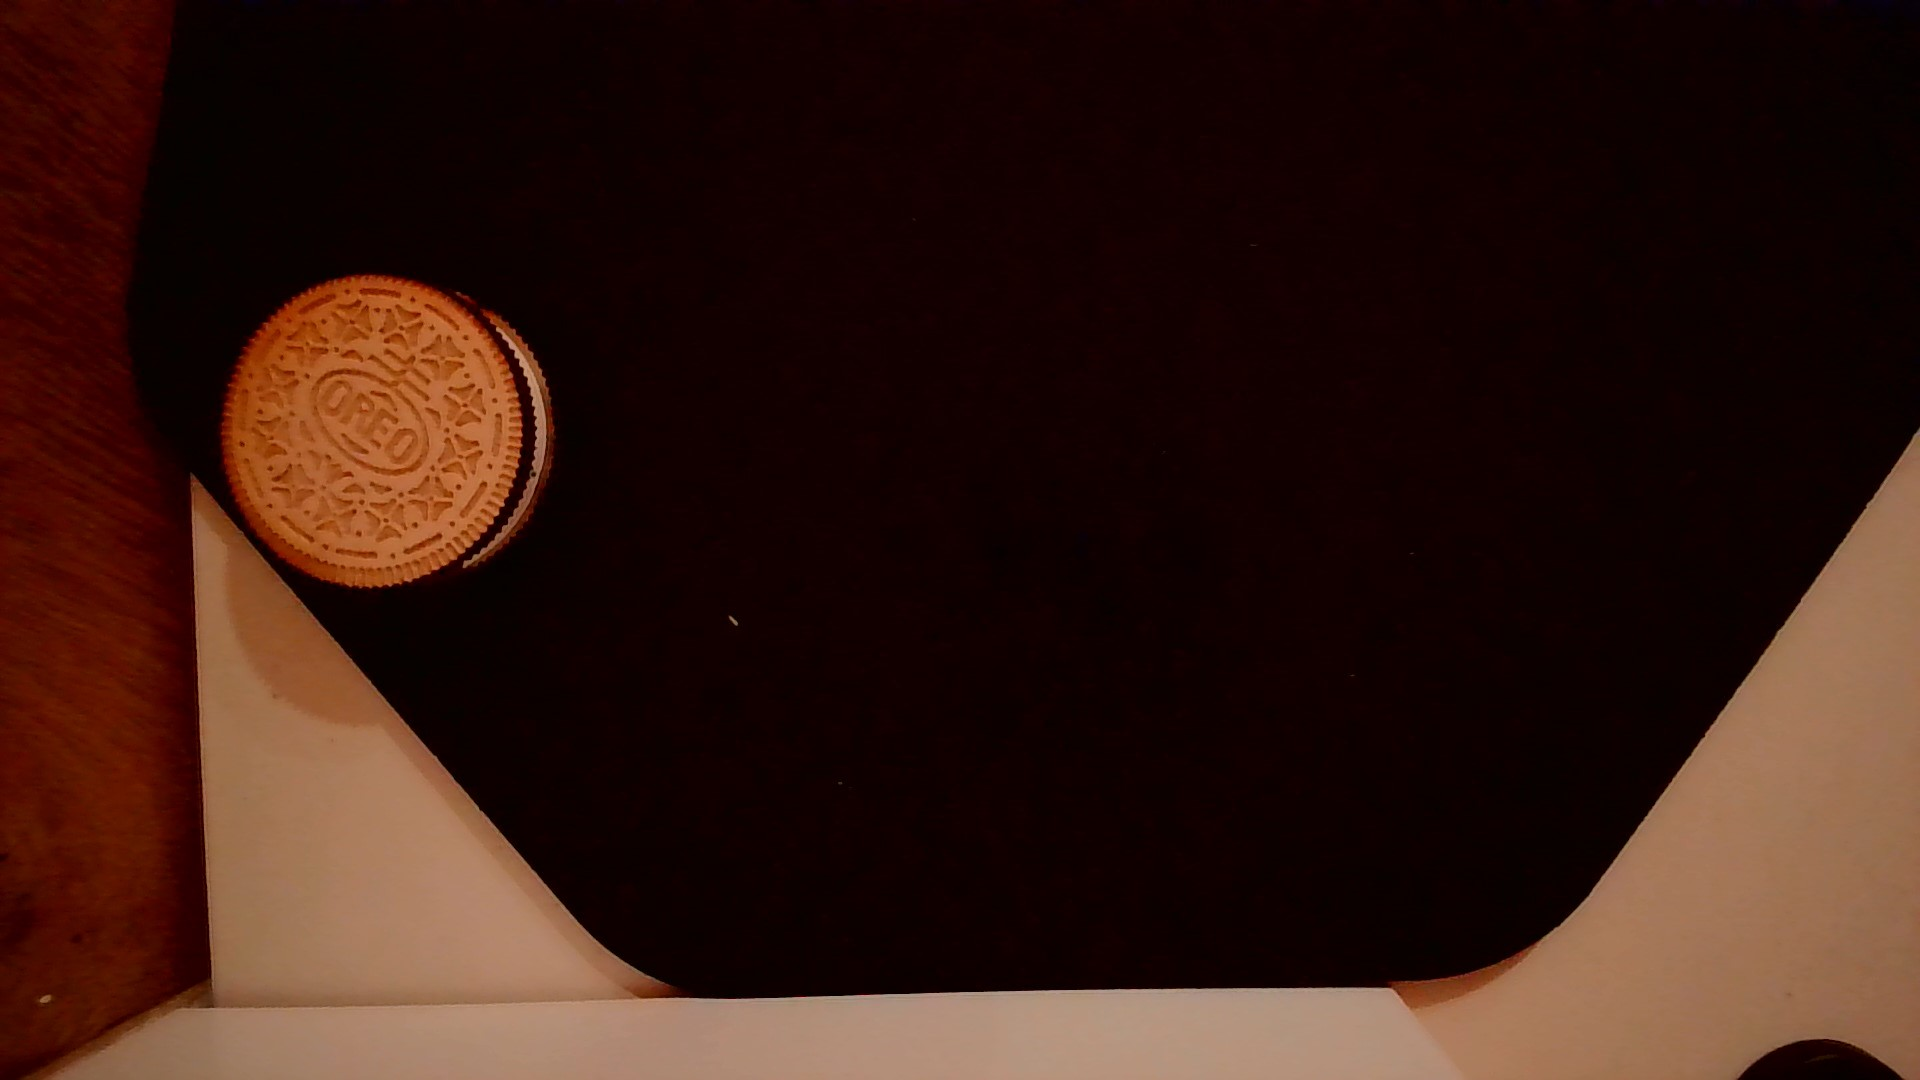Oréo: (208, 262, 563, 603)
